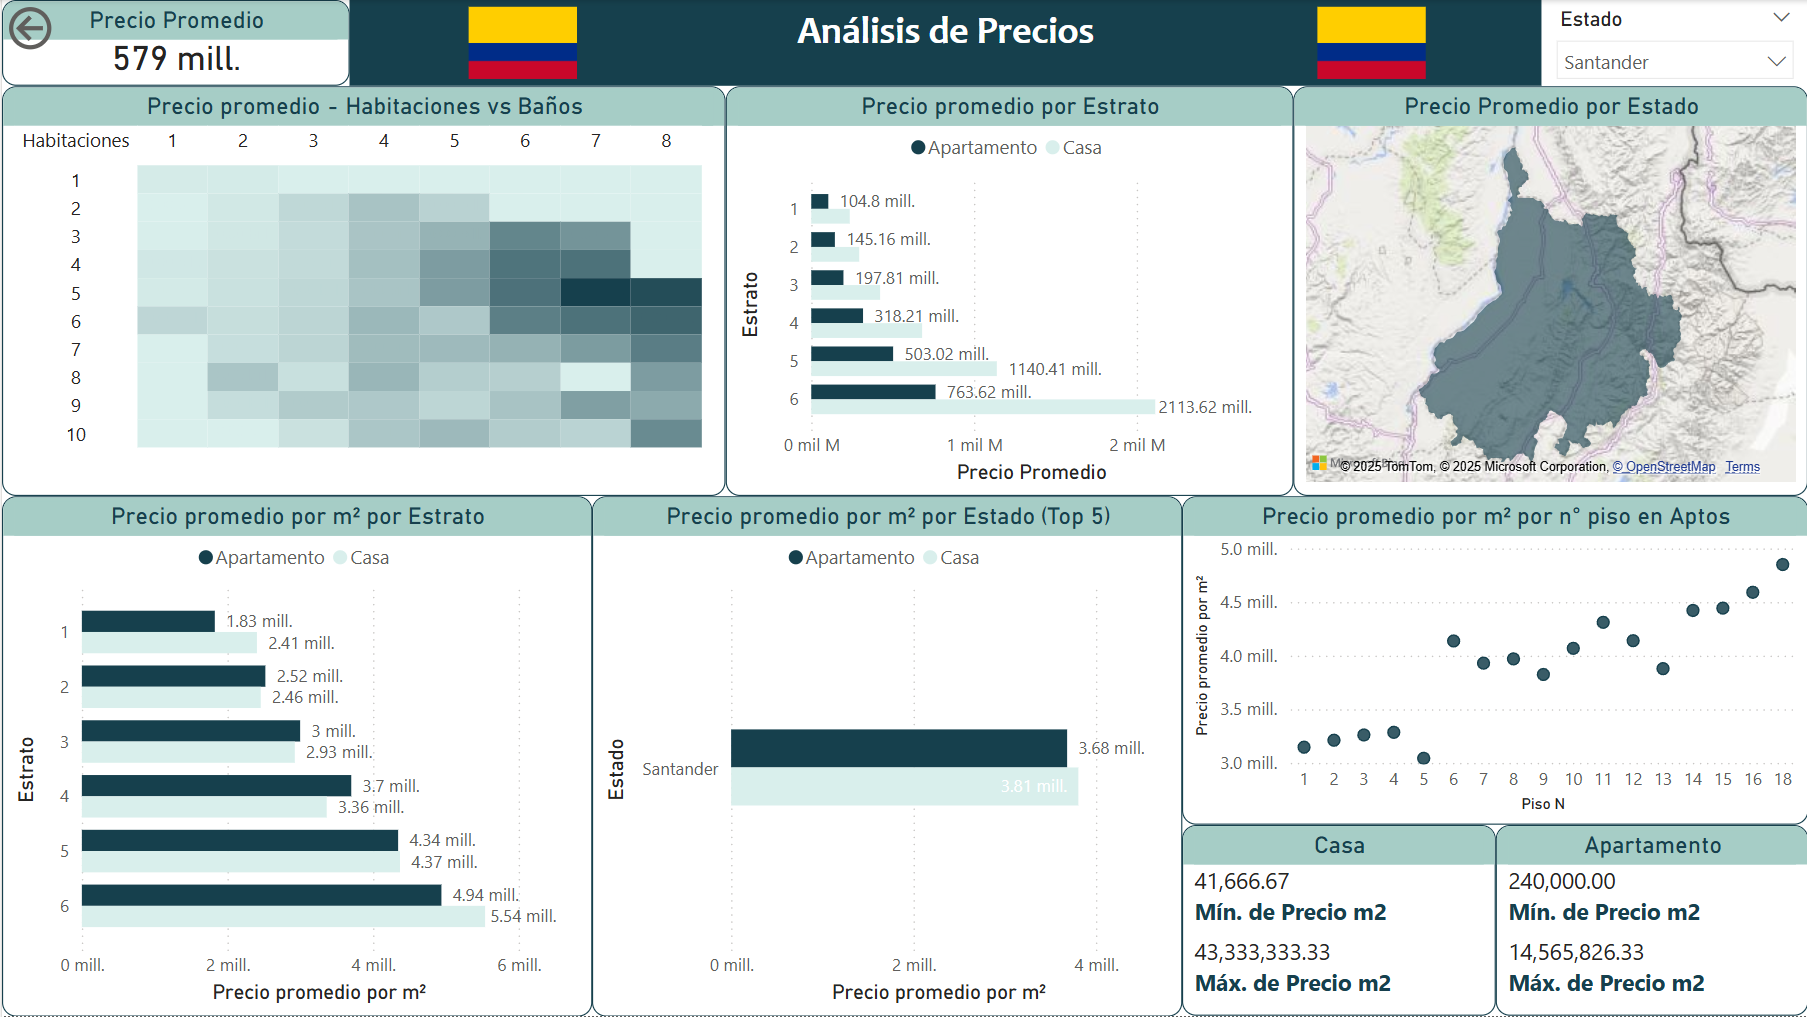

The page's visual inventory and layout, read from the dashboard file:
{"tool":"powerbi","page":{"name":"Análisis de Precios","canvas":[1280,720],"ordinal":1},"visuals":[{"type":"slicer","fields":{"Values":["Props.Estado"]},"box":[1091.5,0,188.7,61.1],"z":0},{"type":"card","title":"Precio Promedio","fields":{"Values":["Avg(Props.Precio)"]},"box":[0,0,246.3,61.1],"z":1000},{"type":"textbox","box":[246.3,0,845.2,61.1],"z":2000},{"type":"clusteredBarChart","title":"Precio promedio por Estrato","fields":{"Category":["Props.Estrato"],"Y":["Avg(Props.Precio)"],"Series":["Props.Tipo Propiedad"]},"box":[513,61.1,402.2,290.6],"z":3000},{"type":"image","box":[901.9,0,137.3,61.1],"z":4000},{"type":"image","box":[300.3,0,137.3,61.1],"z":5000},{"type":"filledMap","title":"Precio Promedio por Estado","fields":{"Category":["Props.Estado"]},"box":[915.2,61.1,365,290.6],"z":6000},{"type":"actionButton","box":[0,0,100,40],"z":7000},{"type":"multiRowCard","title":"Casa","fields":{"Values":["Min(Props.Precio m2)","Max(Props.Precio m2)1"]},"box":[836.3,584.7,222.4,135.5],"z":8000},{"type":"clusteredBarChart","title":"Precio promedio por m² por Estrato","fields":{"Category":["Props.Estrato"],"Y":["Avg(Props.Precio m2)"],"Series":["Props.Tipo Propiedad"]},"box":[0,351.7,418.2,368.6],"z":9000},{"type":"clusteredBarChart","title":"Precio promedio por m² por Estado (Top 5)","fields":{"Category":["Props.Estado"],"Y":["Avg(Props.Precio m2)"],"Series":["Props.Tipo Propiedad"]},"box":[418.2,351.7,418.2,368.6],"z":10000},{"type":"scatterChart","title":"Precio promedio por m² por n° piso en Aptos","fields":{"Series":["Props.Tipo Propiedad"],"Y":["Avg(Props.Precio m2)"],"X":["Props.Piso N"]},"box":[836.3,351.7,443.9,233],"z":11000},{"type":"multiRowCard","title":"Apartamento","fields":{"Values":["Min(Props.Precio m2)","Max(Props.Precio m2)1"]},"box":[1058.7,584.7,221.5,135.5],"z":12000},{"type":"pivotTable","title":"Precio promedio - Habitaciones vs Baños","fields":{"Columns":["Props.Banos"],"Rows":["Props.Habitaciones"],"Values":["Avg(Props.Precio)"]},"box":[0,61.1,513,290.6],"z":13000}]}

Visuals, with their boxes in screenshot pixels (x1, y1, x2, y2), scaled from the page's 1280x720 canvas onto the 1807x1017 screenshot:
slicer - Props.Estado: <region>1541, 0, 1806, 86</region>
"Precio Promedio" card: <region>0, 0, 348, 86</region>
textbox: <region>348, 0, 1541, 86</region>
"Precio promedio por Estrato" clusteredBarChart: <region>724, 86, 1292, 497</region>
image: <region>1273, 0, 1467, 86</region>
image: <region>424, 0, 618, 86</region>
"Precio Promedio por Estado" filledMap: <region>1292, 86, 1806, 497</region>
actionButton: <region>0, 0, 141, 56</region>
"Casa" multiRowCard: <region>1181, 826, 1495, 1016</region>
"Precio promedio por m² por Estrato" clusteredBarChart: <region>0, 497, 590, 1016</region>
"Precio promedio por m² por Estado (Top 5)" clusteredBarChart: <region>590, 497, 1181, 1016</region>
"Precio promedio por m² por n° piso en Aptos" scatterChart: <region>1181, 497, 1806, 826</region>
"Apartamento" multiRowCard: <region>1495, 826, 1806, 1016</region>
"Precio promedio - Habitaciones vs Baños" pivotTable: <region>0, 86, 724, 497</region>
